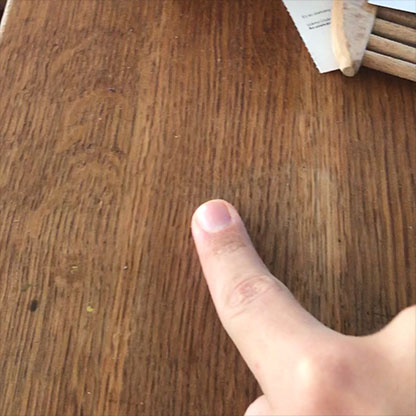fingertip: (172, 188, 254, 259)
